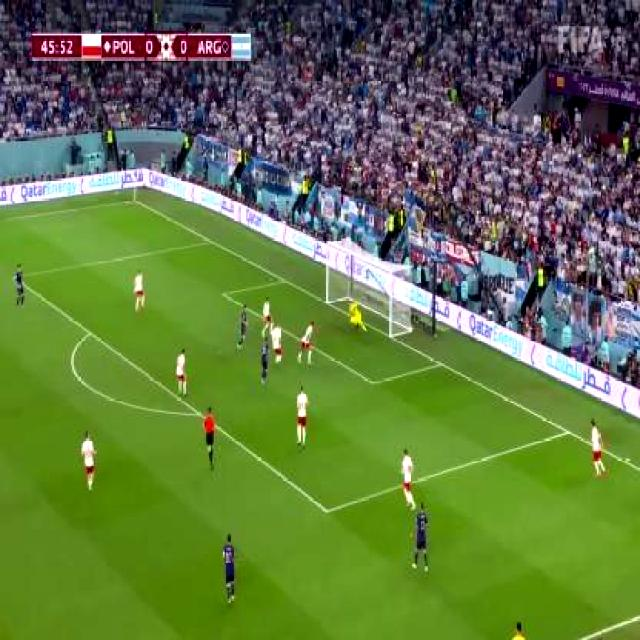bigarea_bottom_inner: (320, 502, 334, 520)
bigarea_bottom_outter: (563, 425, 575, 440)
bigarea_top_outter: (206, 239, 219, 246)
bottom_arc_area_intersection: (193, 408, 204, 422)
corner: (129, 198, 140, 204)
smallarea_bottom_inner: (368, 378, 377, 388)
smallarea_bottom_outter: (436, 358, 446, 369)
smallarea_top_inner: (222, 289, 228, 300)
smallarea_top_outter: (282, 277, 290, 285)
top_arc_area_intersection: (86, 326, 95, 342)
